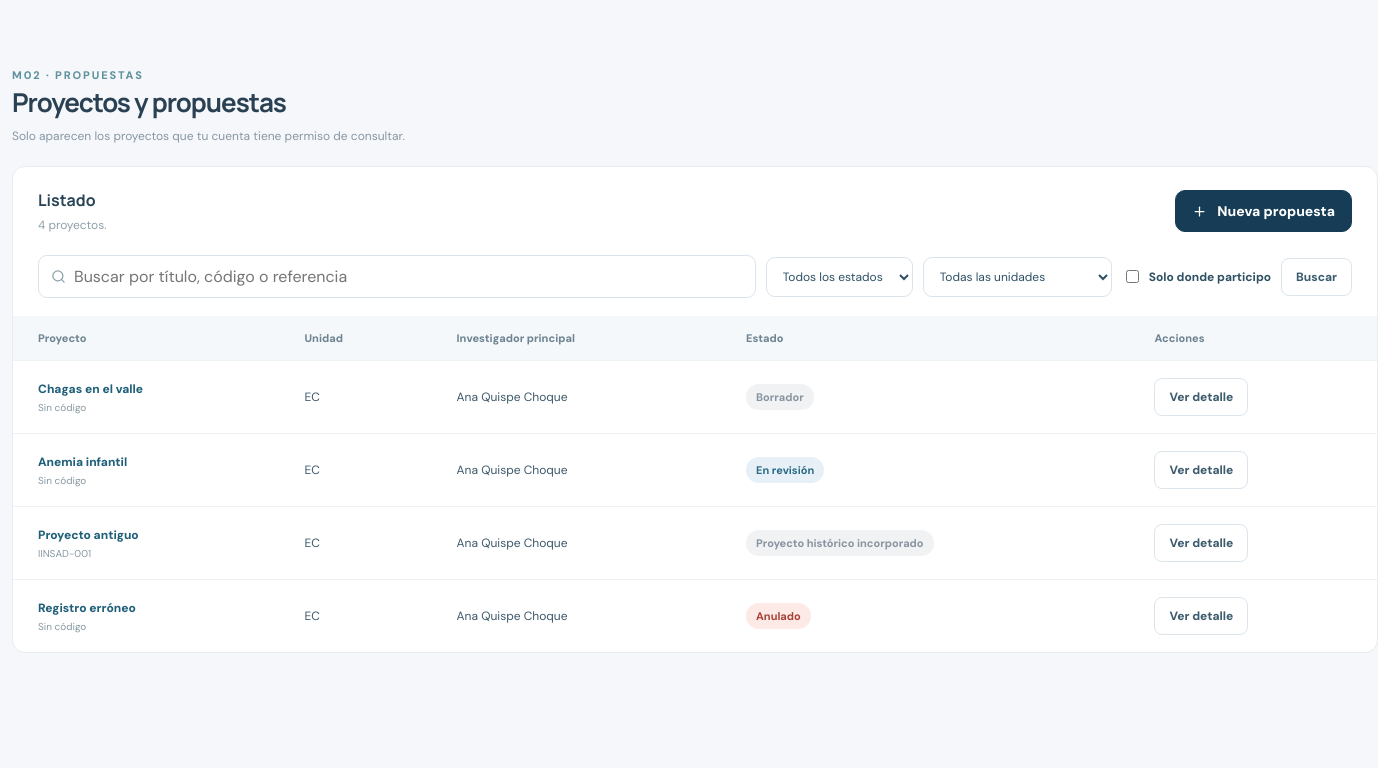
Test: ProjectsPage: listado › envía al servidor los filtros de estado, unidad, participación y búsqueda, y los limpia
The image size is (1378, 768).
Check: the table is shown, box [13,316,1377,652]
Select "En corrección" in the dropdown named "Filtrar por estado de propuesta" at {"x": 839, "y": 277}, box [766,257,913,297]
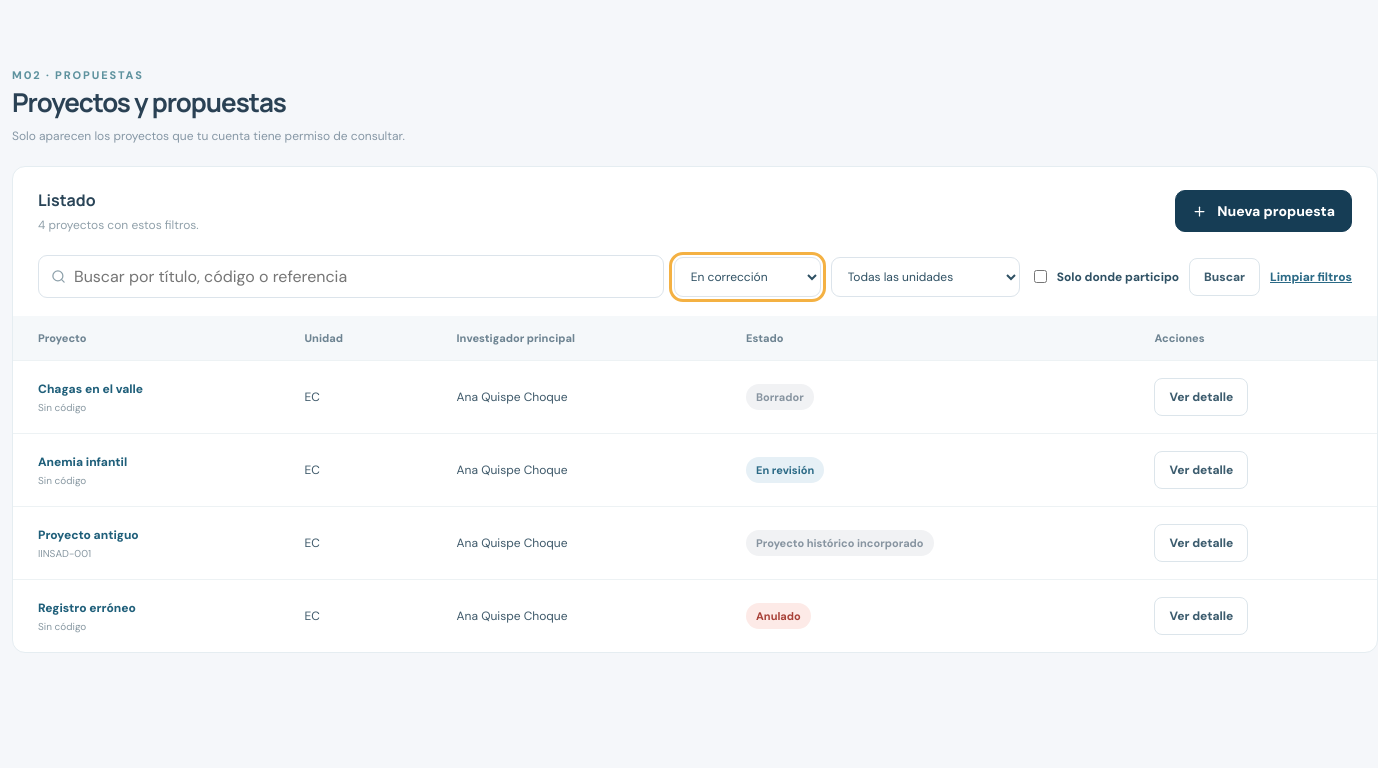
Select "ES · Epidemiología Social" in the dropdown named "Filtrar por unidad" at {"x": 925, "y": 277}, box [831,257,1020,297]
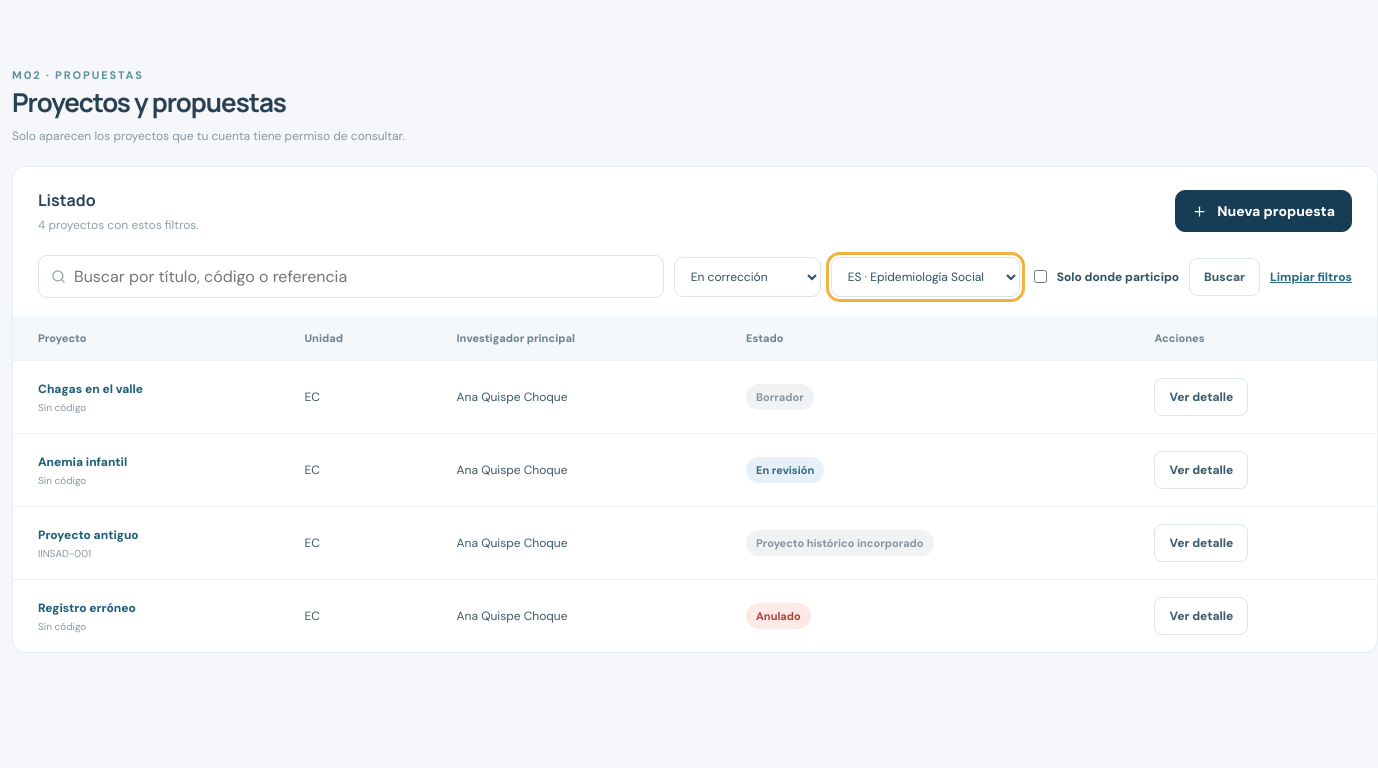
Click the checkbox labelled "Solo donde participo".
click(1040, 277)  # box [1034,270,1047,283]
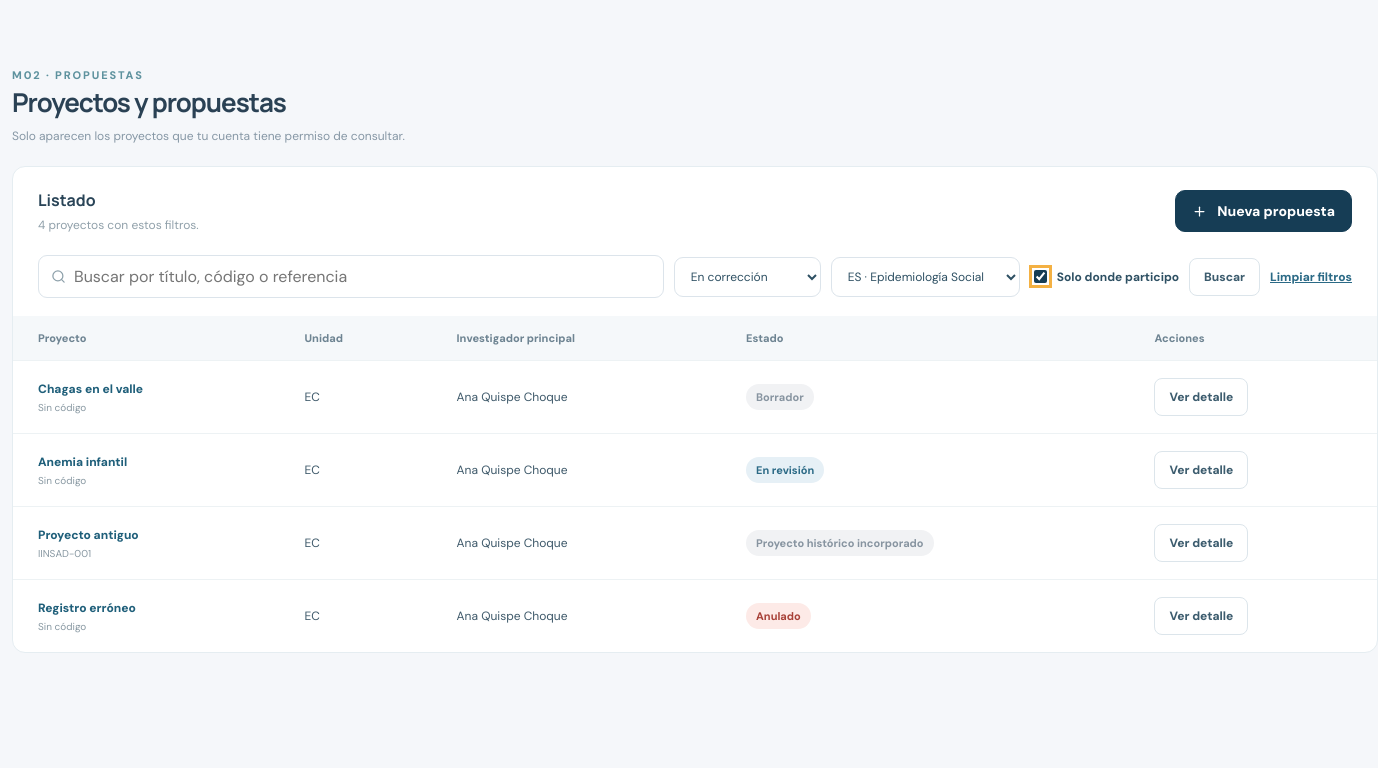
Type "  anemia " into the field named "Buscar proyectos".
click(362, 277); type("  anemia ")  # box [74,256,651,297]
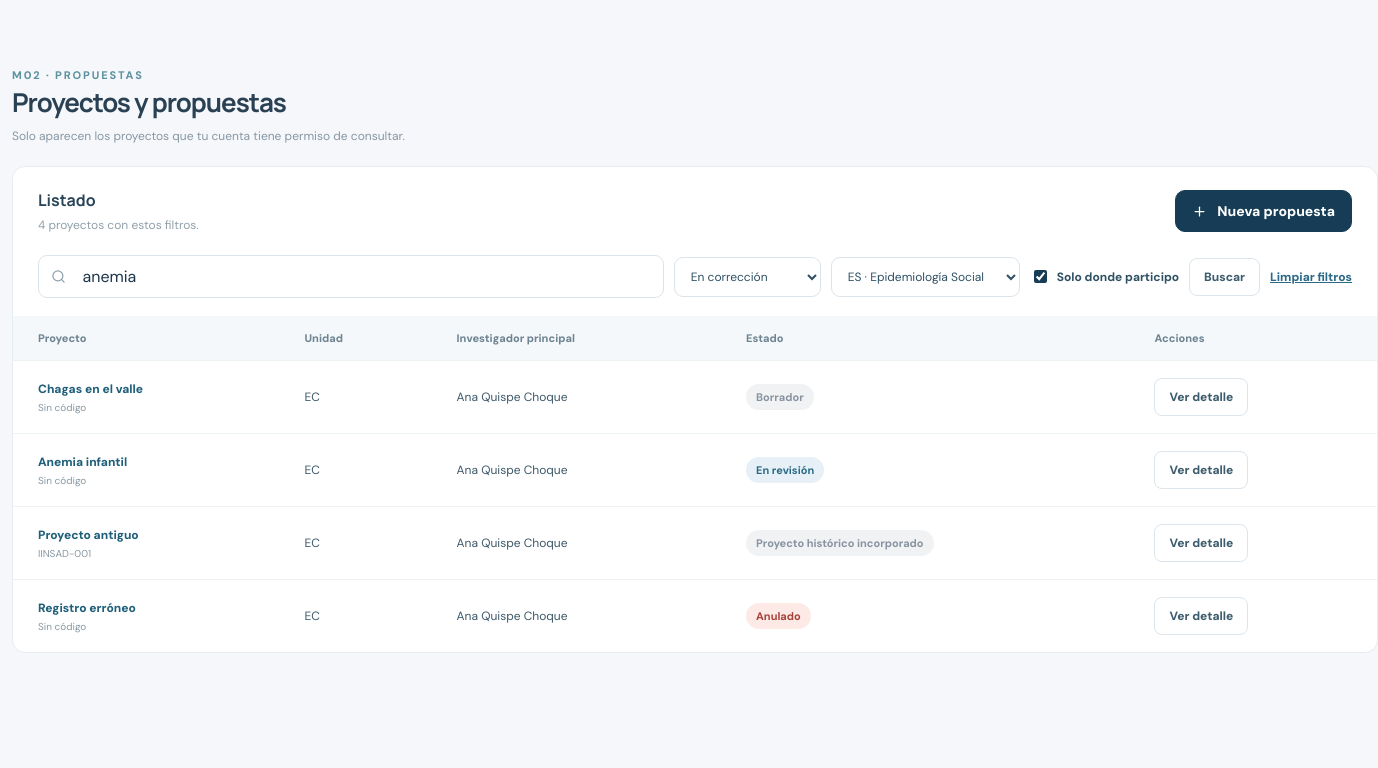
Click the button "Buscar".
click(1225, 277)  # box [1189,258,1260,296]
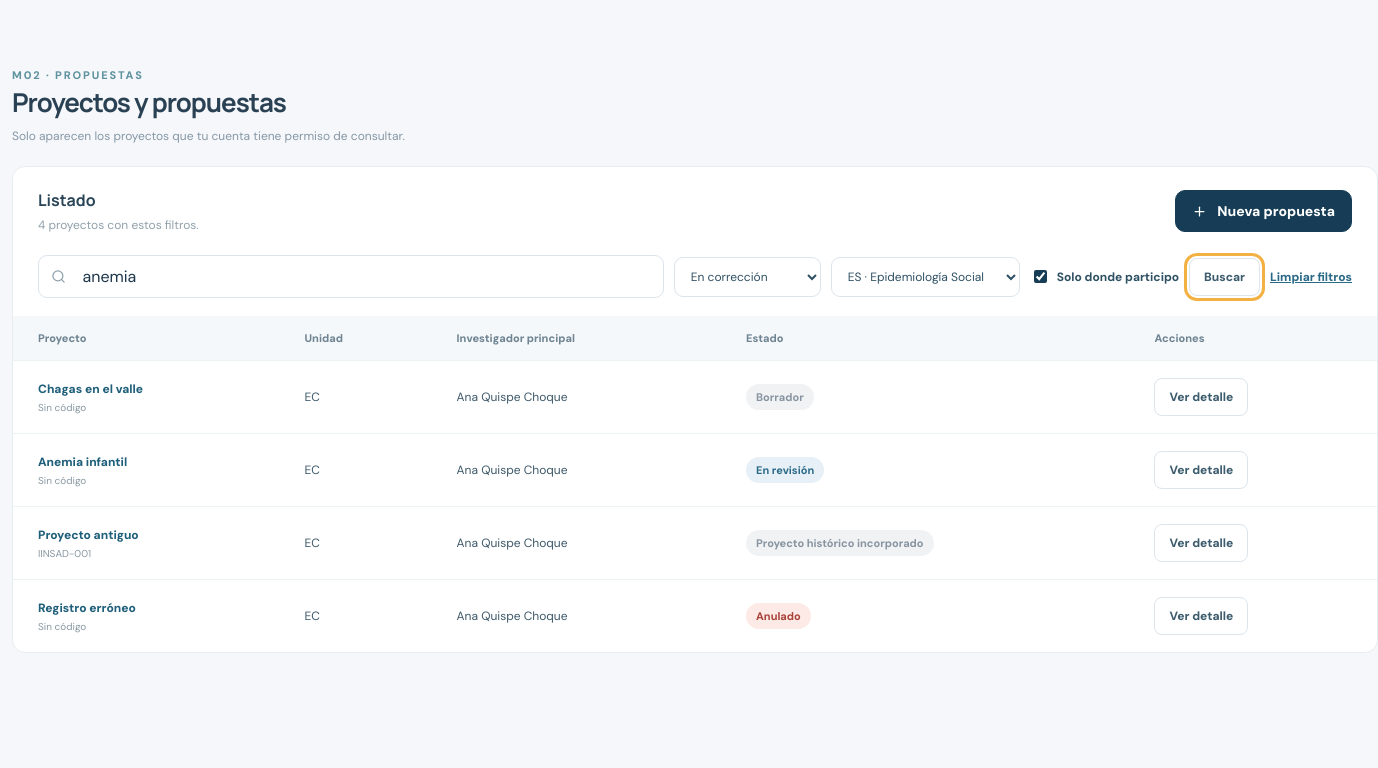
Click the button "Limpiar filtros".
click(1311, 277)  # box [1270,269,1352,285]
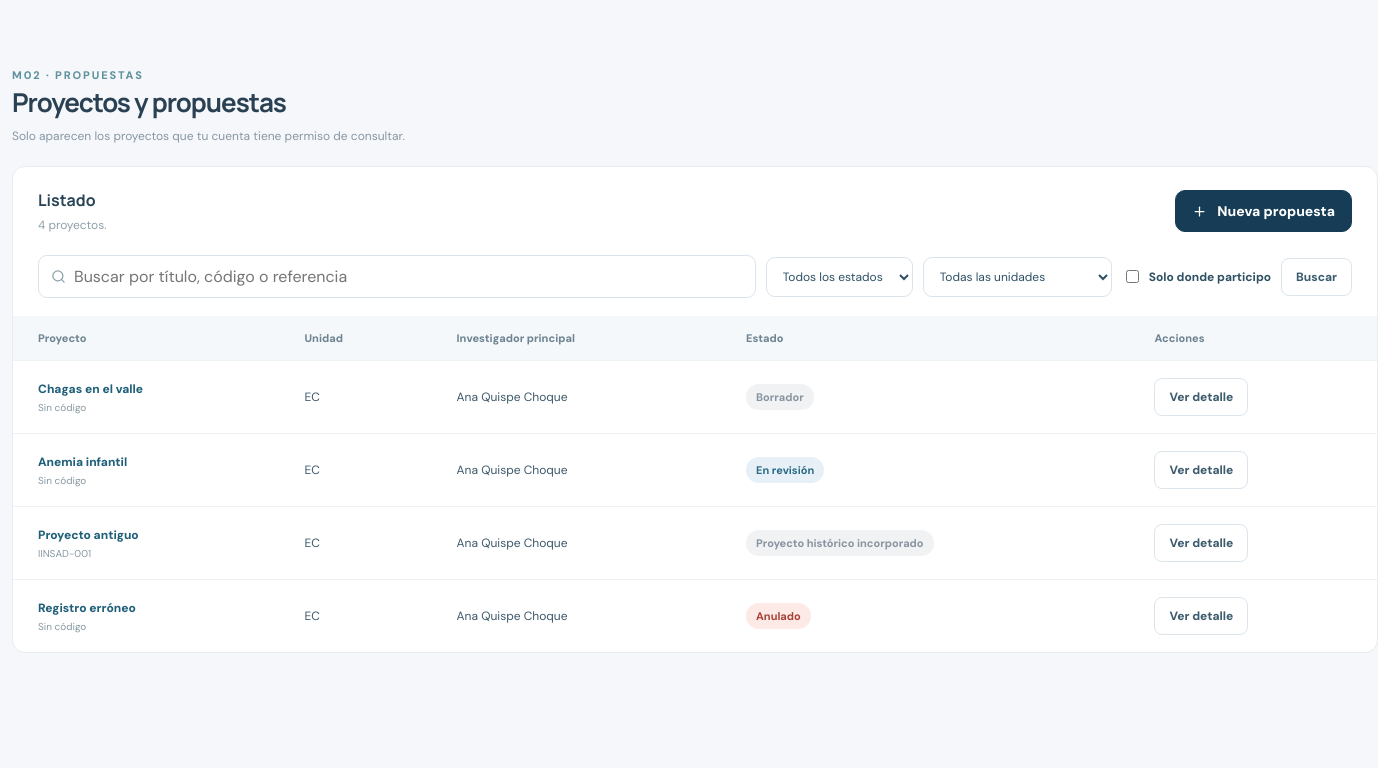
Check: the field named "Buscar proyectos" is empty, box [74,256,743,297]
Check: the button "Limpiar filtros" is gone
